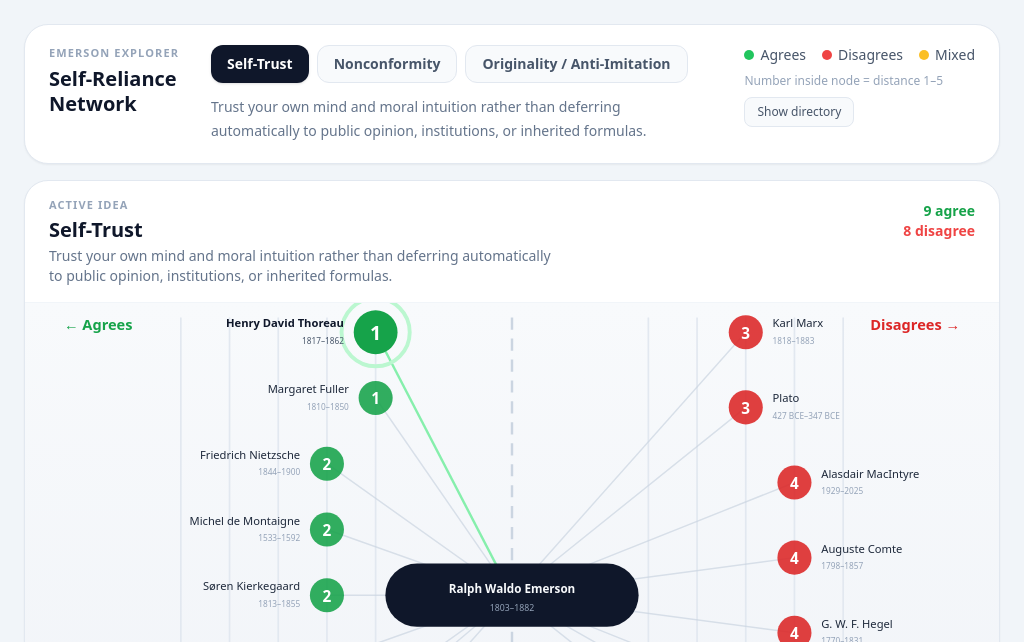
App — directory toggle › shows the directory when the toggle button is clicked
The image size is (1024, 642).
Click the button "Show directory". click: [800, 112]
box: [744,97,854,127]
(page scrolled)
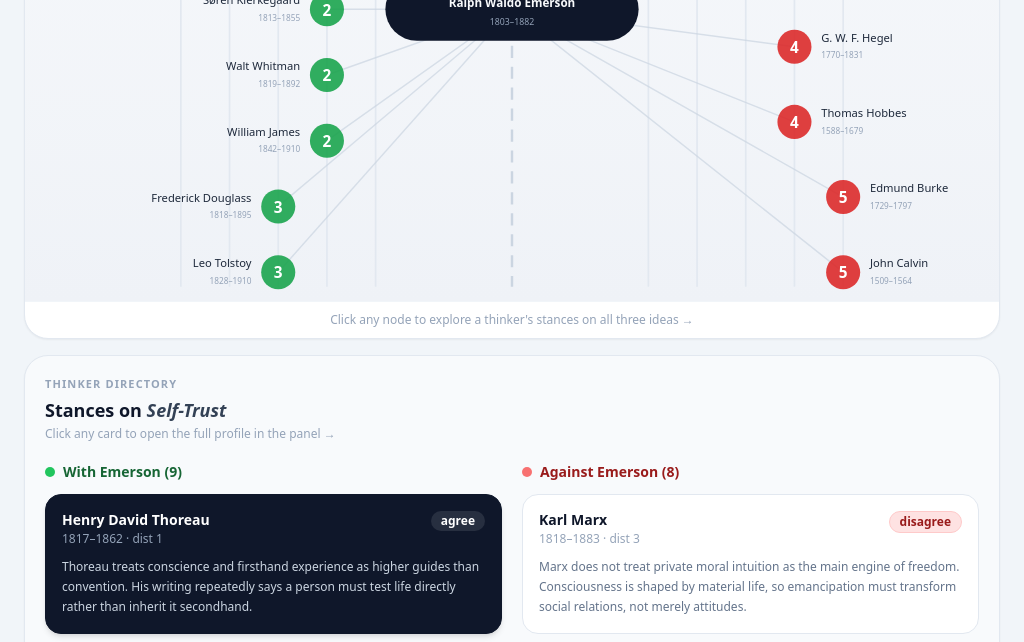
Result: the text "Thinker directory" is shown at [45,376,177,391]
